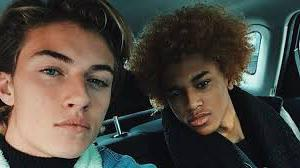face: (13, 22, 113, 159), (163, 56, 226, 135)
